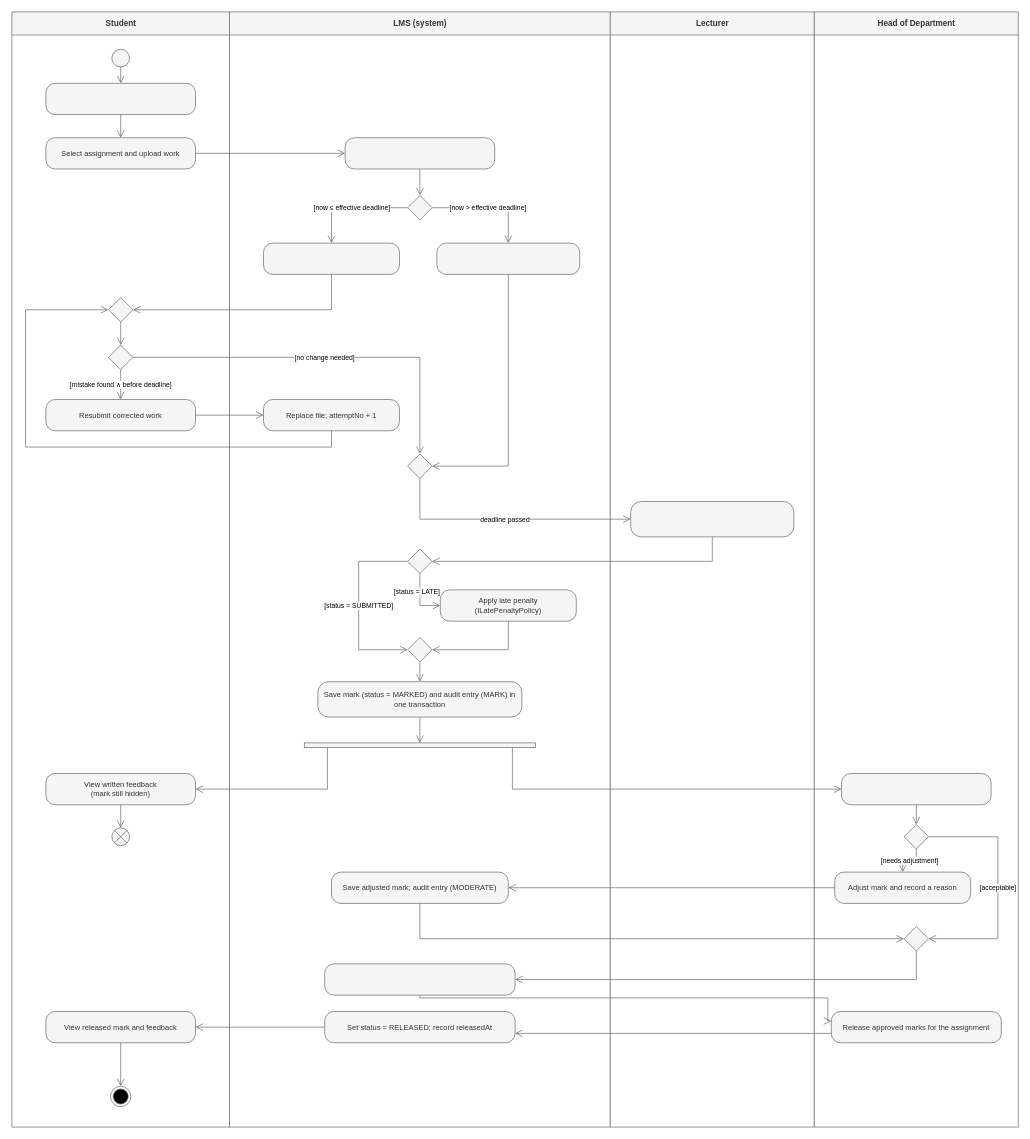
The diagram is 1030 pixels wide and 1139 high, and some of its shapes have lost their labels. Each missing label, with the centre of its shape:
"Check role, enrolment and file" belongs at pixel 419 153.
"Compute days late; record submission (status = LATE)" belongs at pixel 508 258.
"Log in" belongs at pixel 120 99.
"Open submission; enter raw mark and written feedback" belongs at pixel 712 519.
"Record submission (status = SUBMITTED)" belongs at pixel 331 258.
"Review all marks for the department" belongs at pixel 916 789.
"Set status = MODERATED; record moderatedBy" belongs at pixel 419 979.
